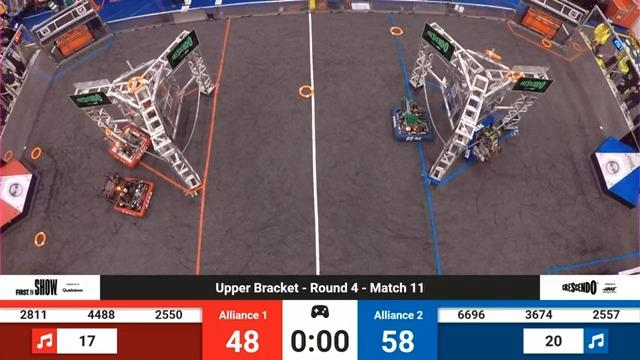robot: (102, 171, 160, 227), (99, 116, 156, 171), (387, 94, 433, 145), (466, 119, 497, 175)
